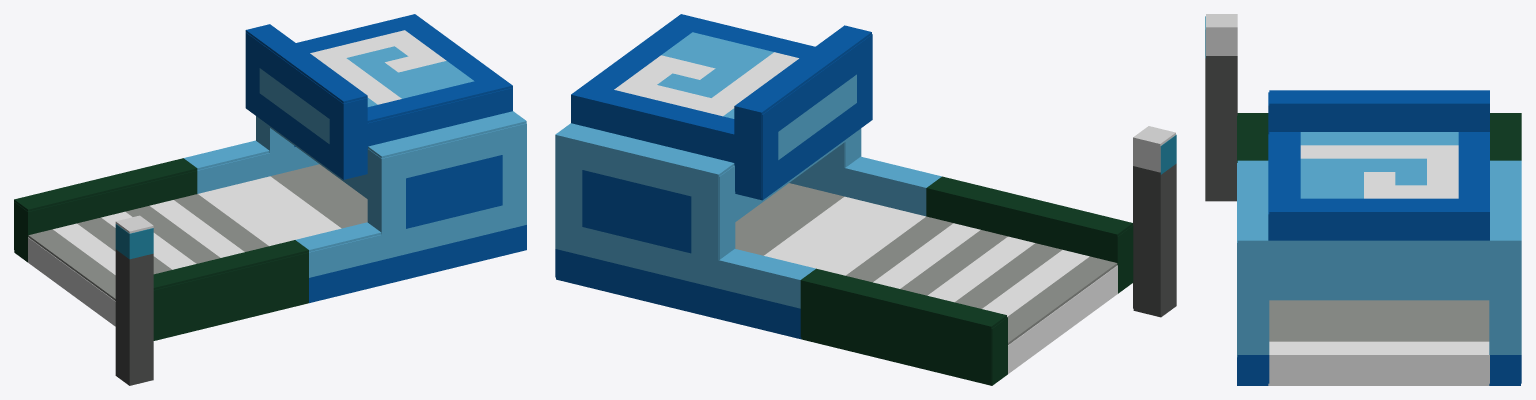
The model's file is plastic.glb.
3 views of the same model, side by side, from view 1: azimuth 30°, elevation 25°; view 2: azimuth 150°, elevation 25°; view 3: azimuth 270°, elevation 25° (orthographic). The views are drawn at different scales.
Parts seen in each view (by area): view 1: Object_0, Object_0.002; view 2: Object_0.002, Object_0; view 3: Object_0.002, Object_0.
Part boxes in pixels (left/top/right/bottom): Object_0: left=14, top=32, right=526, bottom=385; Object_0.002: left=14, top=14, right=526, bottom=300; Object_0.002: left=555, top=14, right=1175, bottom=383; Object_0: left=556, top=34, right=1176, bottom=385; Object_0.002: left=1206, top=14, right=1521, bottom=383; Object_0: left=1205, top=16, right=1520, bottom=385.
Size of the model in its own units: 1.7 by 0.8085 by 1.
Materials: 2 (2 with a texture image).
